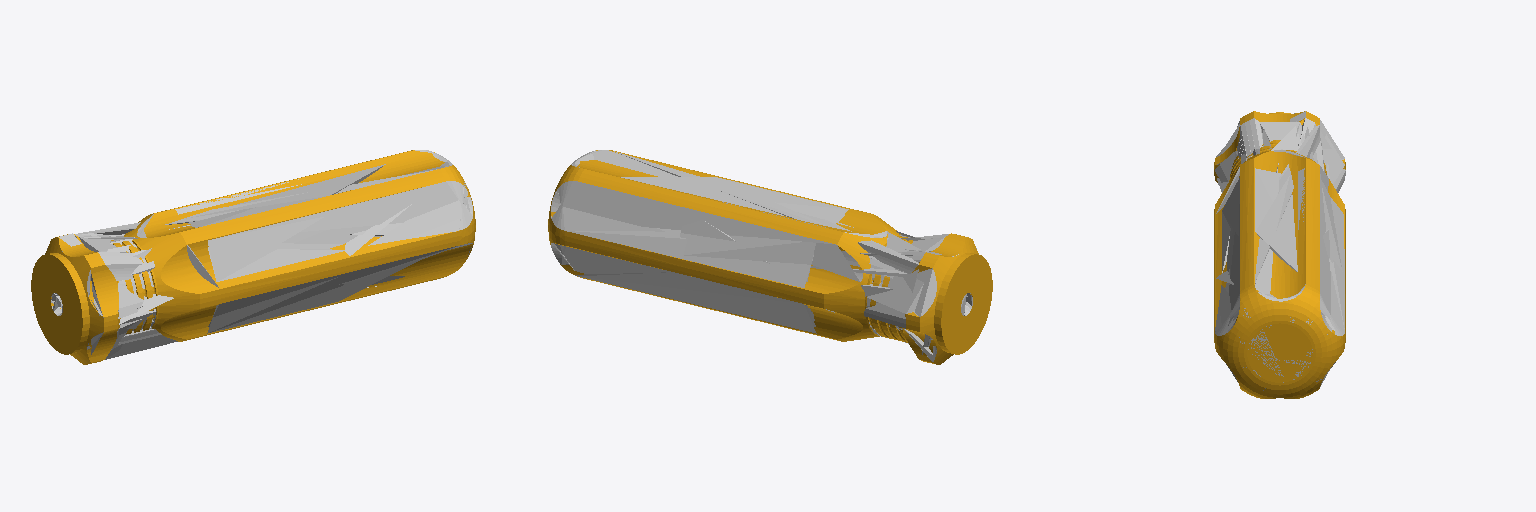
The picture shows the model from 3 angles: view 1: azimuth 30°, elevation 25°; view 2: azimuth 150°, elevation 25°; view 3: azimuth 270°, elevation 25°; orthographic projection.
Parts seen in each view (by area): view 1: MeshBody1, MeshBody2; view 2: MeshBody2, MeshBody1; view 3: MeshBody1, MeshBody2.
Part boxes in pixels (x1,y1,x2,y2): MeshBody1: (31, 150, 475, 364); MeshBody2: (47, 150, 472, 359); MeshBody2: (551, 150, 976, 361); MeshBody1: (548, 150, 992, 364); MeshBody1: (1214, 111, 1345, 398); MeshBody2: (1215, 111, 1345, 390).
Bounding box in the file's own units: 56 × 14.74 × 16.